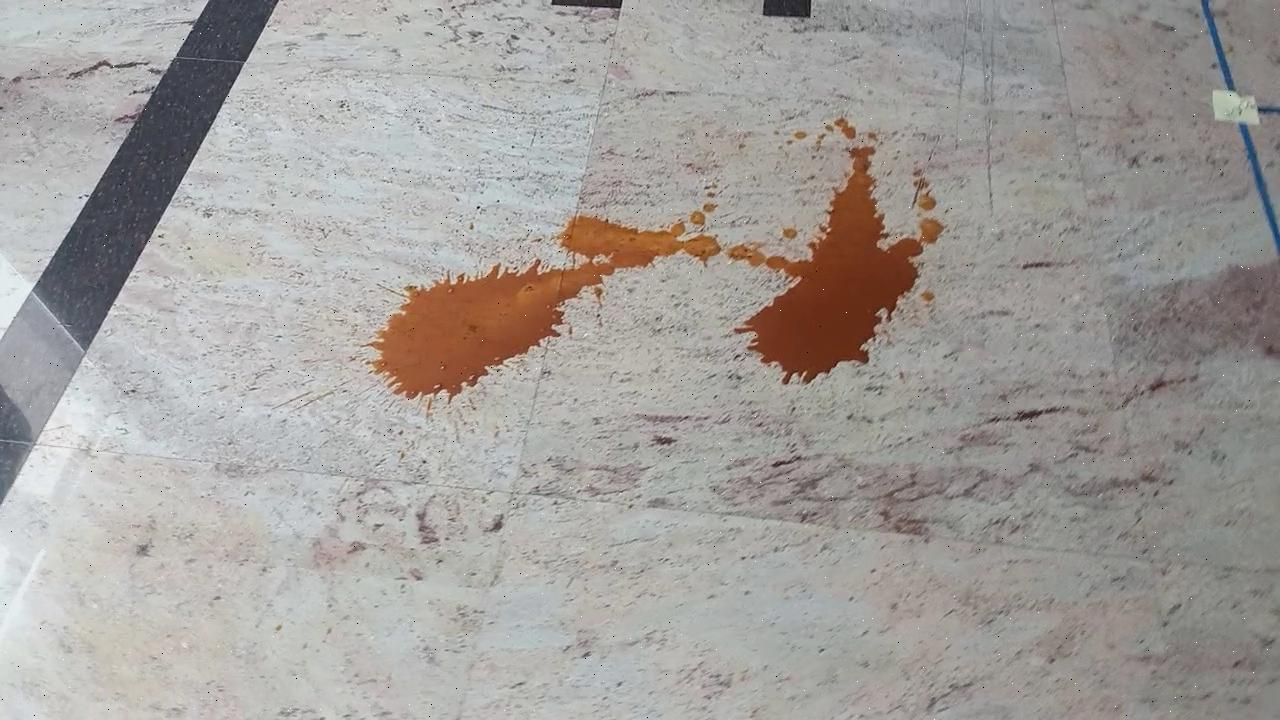dirty_floor: (369, 116, 934, 420)
